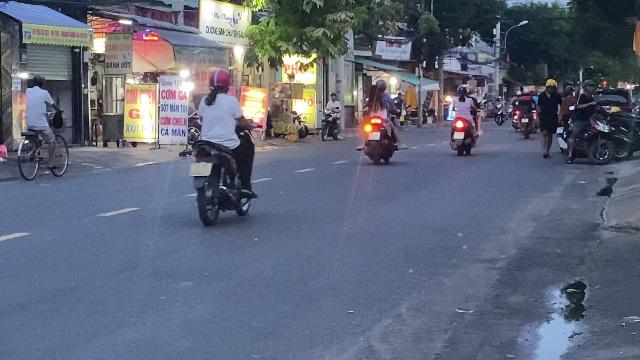helmet: (208, 68, 232, 94)
licenseplate: (189, 164, 213, 176)
motorcyclist: (188, 66, 258, 226)
